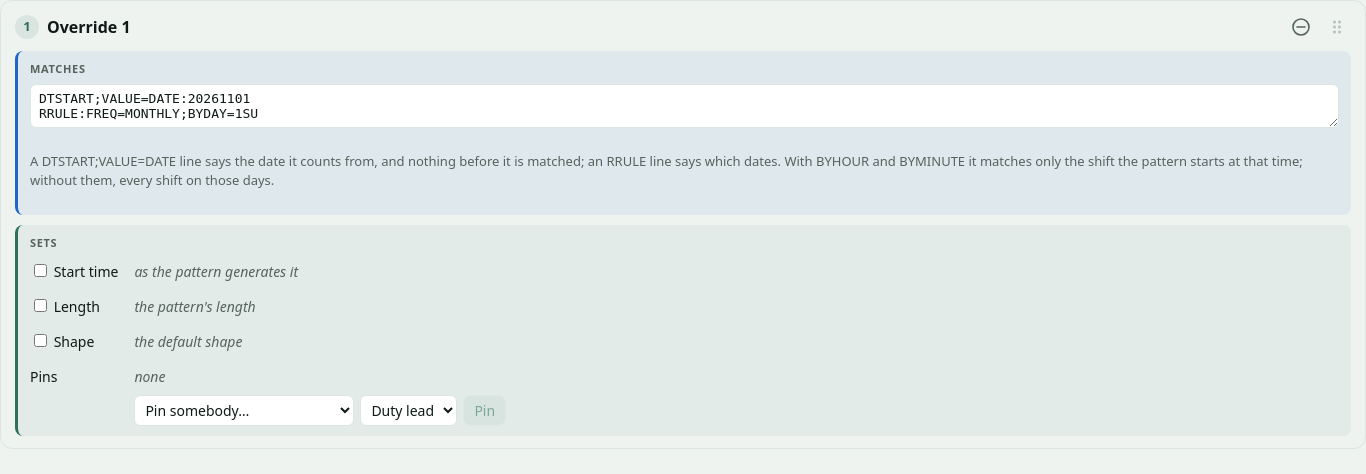
Test case: OverrideCard › removing asks first, on the card
Click the button named "Remove override 1" at point(1301, 27), box left=1287, top=13, right=1315, bottom=41
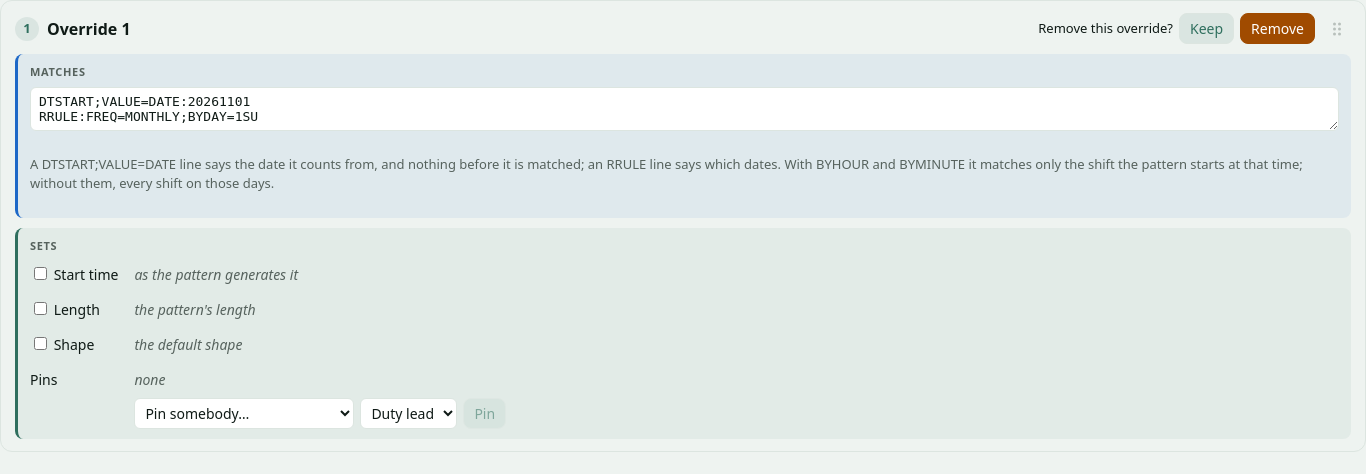
Now the text "Remove this override?" is shown, box left=1038, top=19, right=1173, bottom=37
Click the button "Keep" at point(1207, 28), box left=1179, top=13, right=1234, bottom=44
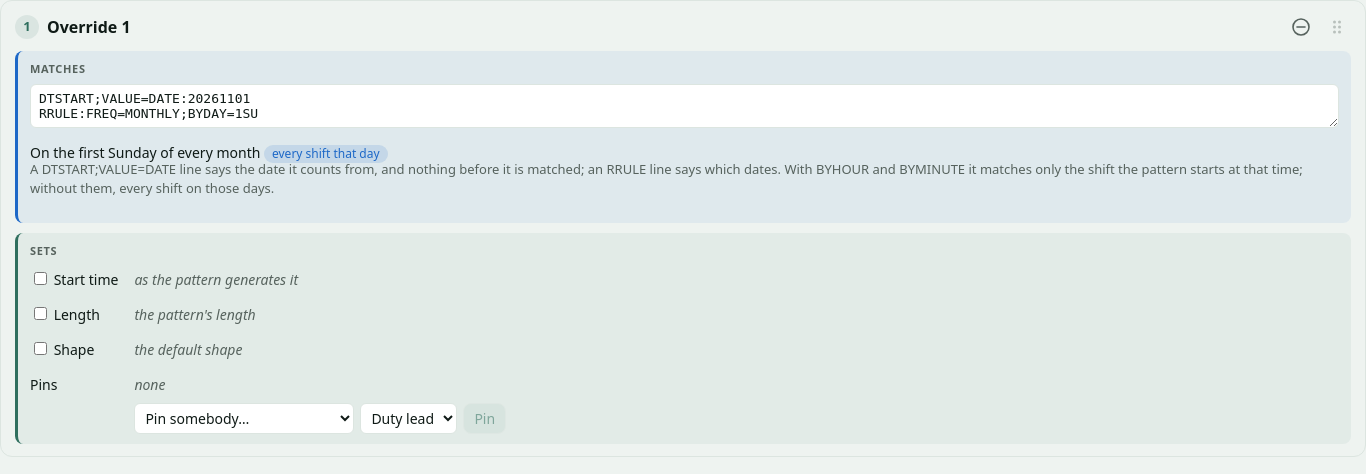
Now the text "Remove this override?" is gone
